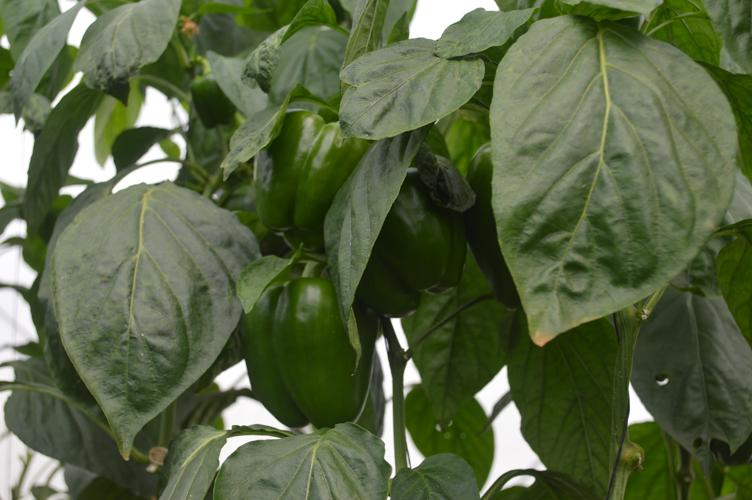BellPepper: (246, 280, 380, 426), (361, 173, 463, 310), (253, 110, 356, 231), (457, 144, 525, 310)
